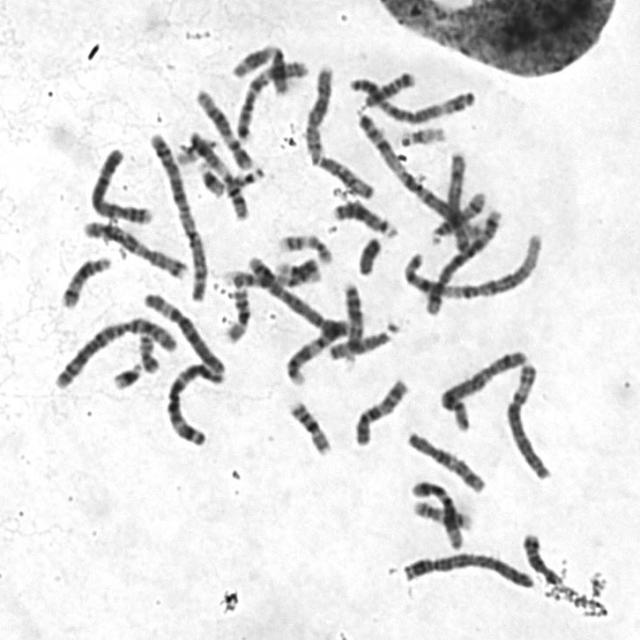A1: (351, 106, 484, 247), (398, 226, 544, 302)
A2: (144, 126, 210, 303), (48, 309, 180, 391)
A3: (346, 70, 478, 124), (160, 356, 227, 448)
B4: (396, 547, 536, 593), (86, 142, 157, 227)
B5: (419, 201, 506, 318), (241, 248, 349, 340)
C10: (402, 429, 489, 499), (350, 378, 413, 455)
C11: (185, 126, 252, 223), (228, 36, 294, 96)
C12: (190, 83, 256, 174), (407, 474, 468, 552)
C6: (138, 285, 228, 378), (500, 355, 555, 481)
C7: (79, 214, 193, 282), (230, 52, 312, 141)
C8: (428, 145, 471, 247), (300, 56, 336, 165)
C9: (282, 314, 354, 389), (219, 256, 320, 291)
D13: (326, 192, 400, 238), (336, 274, 366, 362)
D14: (425, 184, 489, 243), (54, 252, 114, 312)
D15: (314, 148, 377, 200), (324, 318, 398, 362)
E16: (285, 396, 336, 460), (220, 279, 253, 344)
E17: (410, 495, 478, 535), (273, 227, 335, 265)
E18: (519, 528, 566, 586), (358, 64, 418, 109)
F19: (394, 118, 449, 148), (270, 260, 322, 286)
F20: (132, 327, 162, 374), (437, 392, 472, 431)
G21: (193, 156, 228, 198), (106, 355, 144, 392)
G22: (218, 160, 267, 196), (172, 134, 220, 170)
X: (438, 350, 527, 410)
Y: (353, 230, 384, 276)
